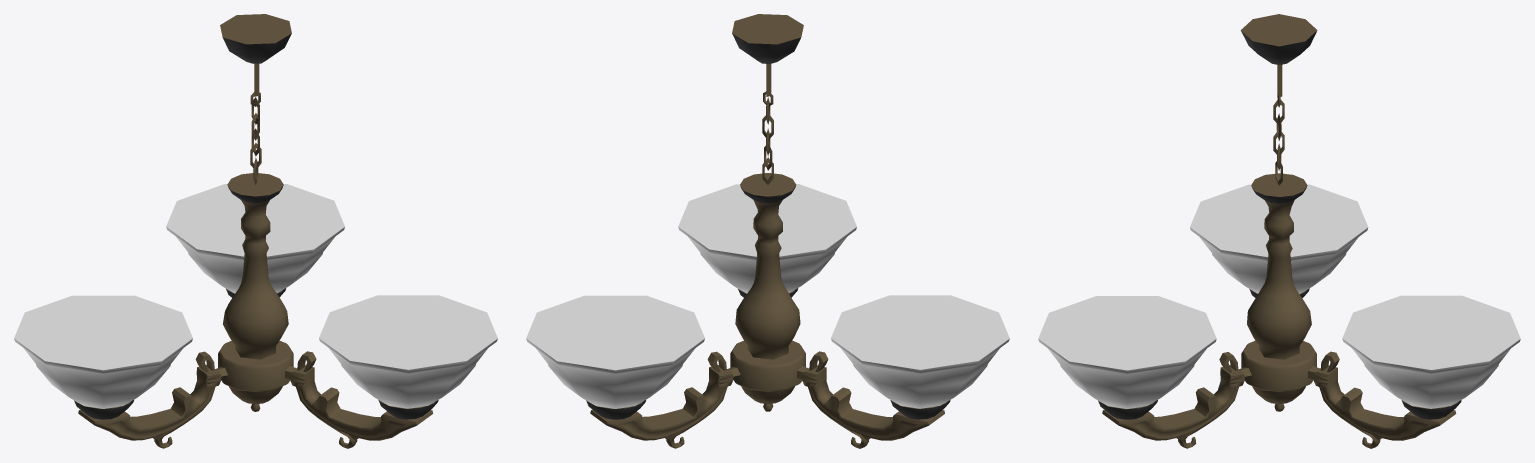
The model's file is LightTopHome01.FBX.
The picture shows the model from 3 angles, left to right: view 1: azimuth 30°, elevation 25°; view 2: azimuth 150°, elevation 25°; view 3: azimuth 270°, elevation 25°; orthographic projection.
Parts seen in each view (by area): view 1: LightTopHome01; view 2: LightTopHome01; view 3: LightTopHome01.
Boxes of the visible parts, x1,y1,x2,y2 form: LightTopHome01: (14,14,497,448); LightTopHome01: (526,14,1009,448); LightTopHome01: (1038,14,1520,448).
Size of the model in its own units: 56.72 by 62.3 by 56.32.
